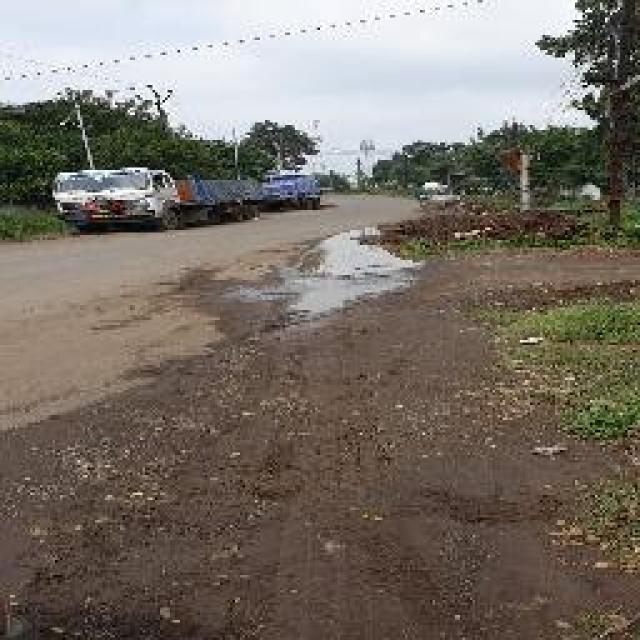waterlogging: (227, 222, 437, 330)
